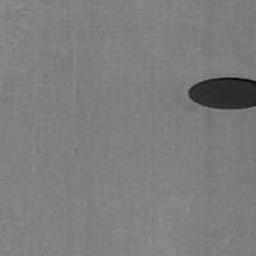Punching: (186, 77, 256, 111)
